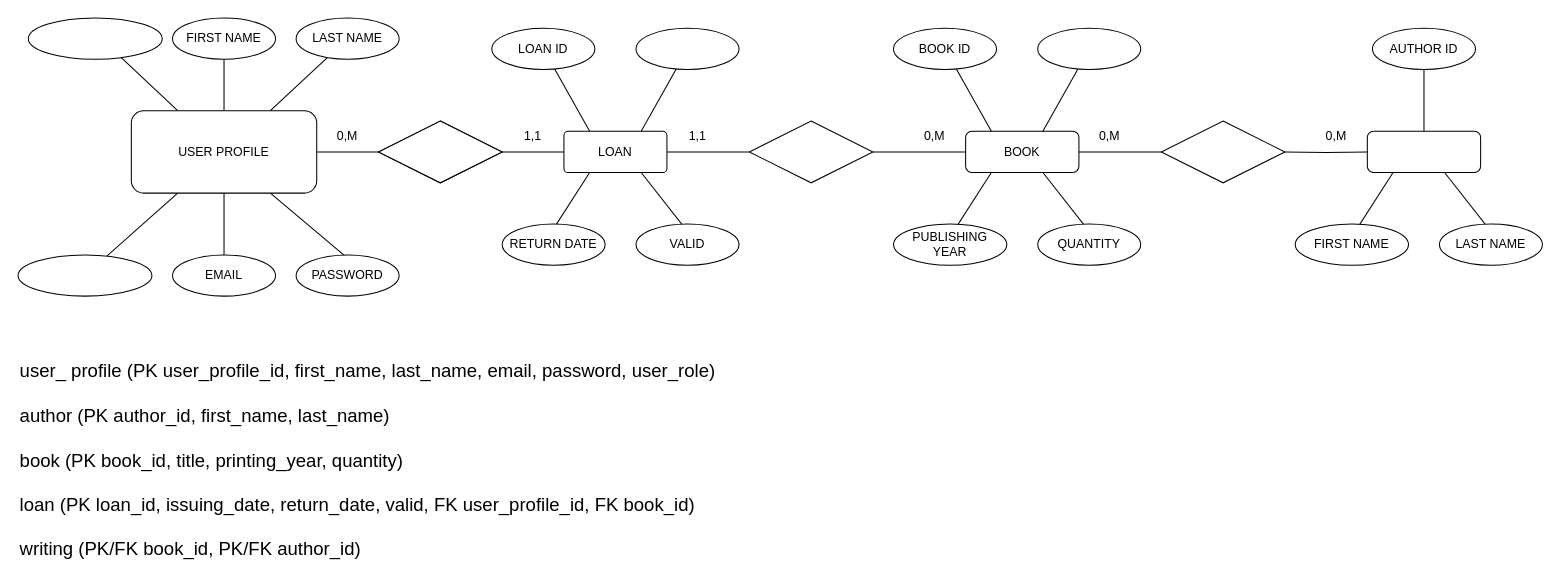
Image size: 1560x579. Some labels were removed from this diagram. Here are the shapes that lost their labels. From the top down, the box of each, then its label:
(27, 17, 162, 59): USER PROFILE ID
(635, 27, 739, 70): ISSUING DATE
(1037, 27, 1141, 70): TITLE
(377, 120, 502, 183): FROM
(748, 120, 873, 183): FOR
(1160, 120, 1285, 183): WRITING
(1366, 130, 1481, 173): AUTHOR
(17, 254, 152, 296): USER ROLE (ADMIN, USER)
